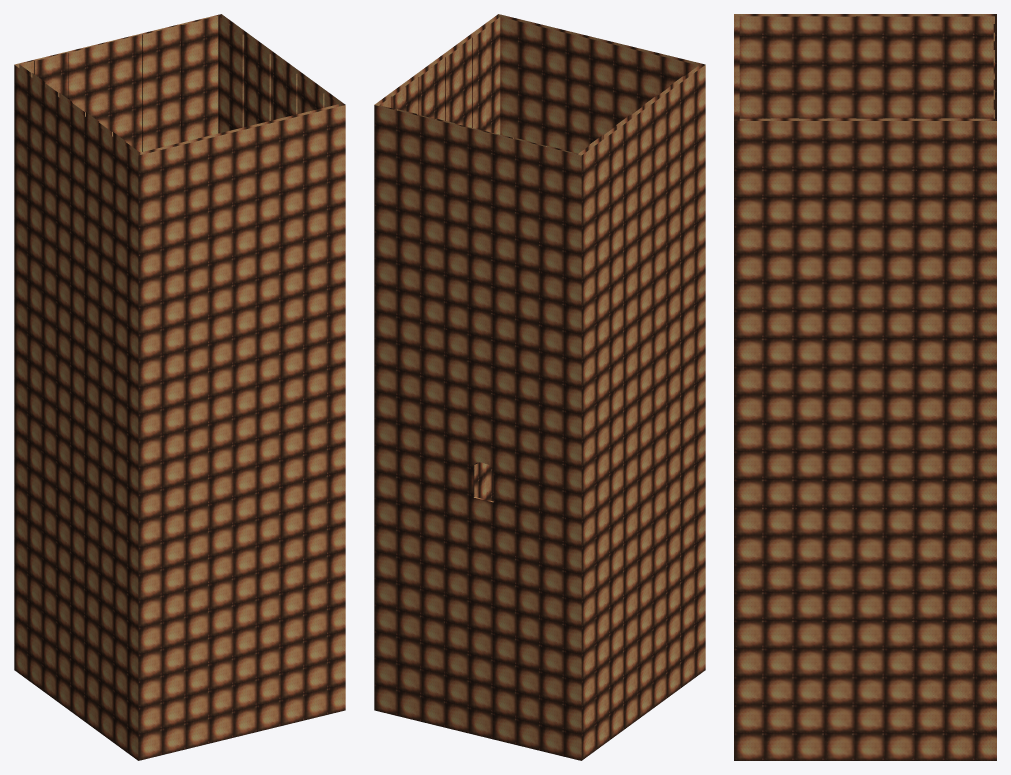
File: env_st_salle_1_Mur_Détruit.fbx
3 views of the same model, side by side, from view 1: azimuth 30°, elevation 25°; view 2: azimuth 150°, elevation 25°; view 3: azimuth 270°, elevation 25° (orthographic). The views are drawn at different scales.
Parts seen in each view (by area): view 1: Salle_1_Contour; view 2: Salle_1_Contour; view 3: Salle_1_Contour.
Boxes of the visible parts, x1,y1,x2,y2 form: Salle_1_Contour: (14,14,345,760); Salle_1_Contour: (374,14,705,760); Salle_1_Contour: (734,14,996,760).
Bounding box in the file's own units: 3575 × 9973 × 3710.
